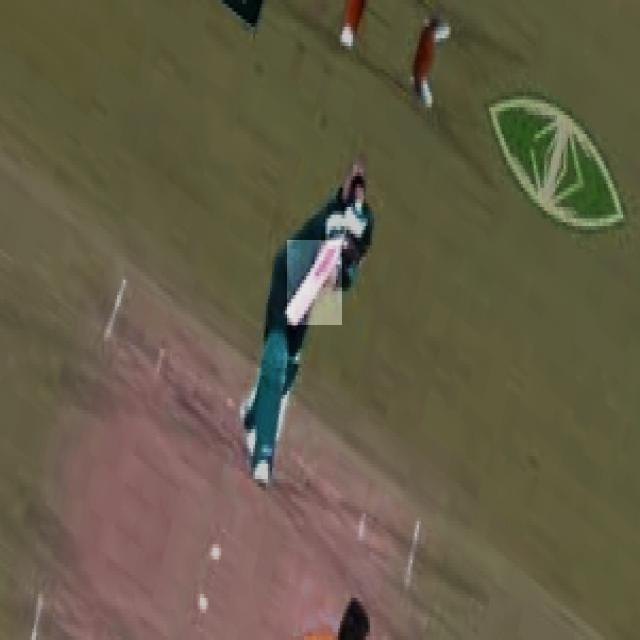bat: (284, 240, 340, 328)
toe: (280, 311, 305, 326)
